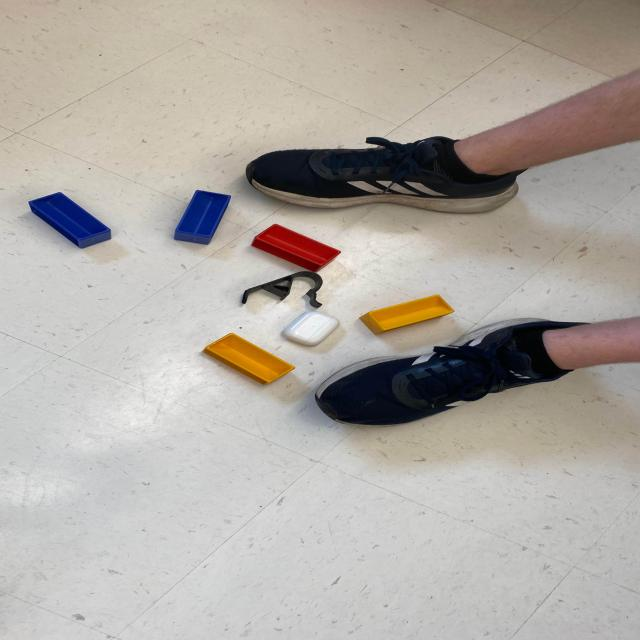blue-specimen: (28, 192, 112, 248), (175, 190, 232, 245)
red-specimen: (251, 224, 341, 272)
yellow-specimen: (203, 333, 296, 385), (359, 295, 455, 334)
